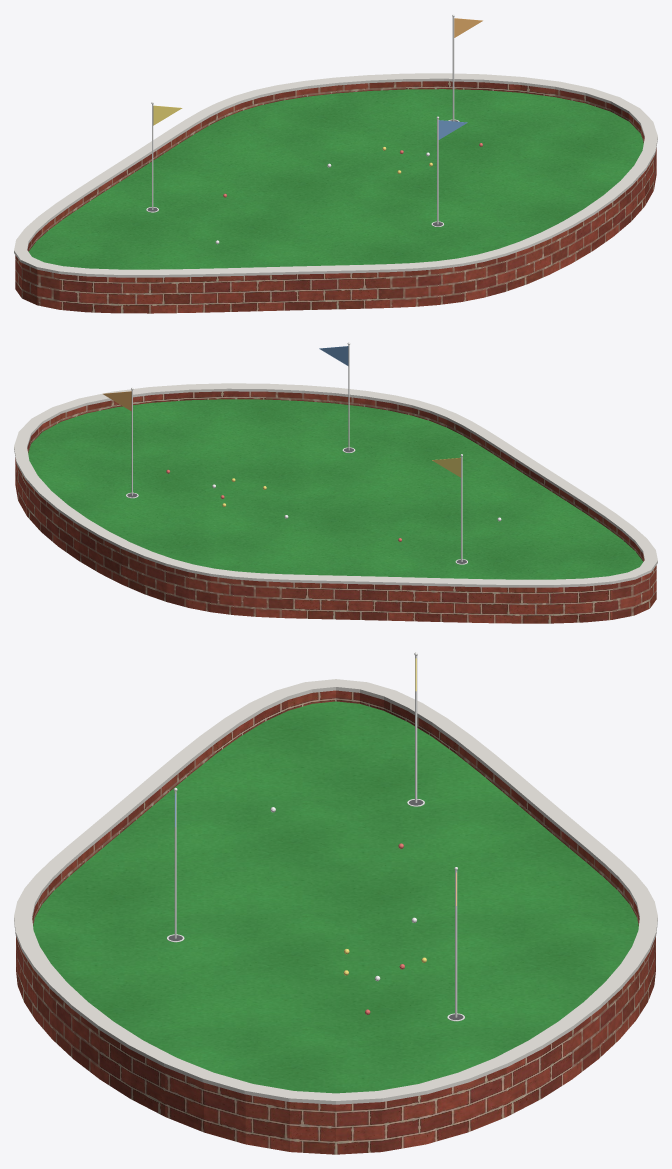
The model's file is practice.glb.
The picture shows the model from 3 angles, top to bottom: view 1: azimuth 30°, elevation 25°; view 2: azimuth 150°, elevation 25°; view 3: azimuth 270°, elevation 25°; orthographic projection. The views are drawn at different scales.
Visible parts, largest first — view 1: practice_turf, practice_brick, practice_coping, practice_paint_w; view 2: practice_turf, practice_brick, practice_coping, practice_paint_w; view 3: practice_turf, practice_brick, practice_coping, practice_paint_w.
Boxes of the visible parts, left/top/right/bottom form: practice_turf: left=28, top=89, right=643, bottom=269; practice_brick: left=15, top=81, right=656, bottom=313; practice_coping: left=14, top=73, right=657, bottom=277; practice_paint_w: left=146, top=14, right=459, bottom=226; practice_turf: left=28, top=399, right=642, bottom=579; practice_brick: left=15, top=391, right=656, bottom=623; practice_coping: left=14, top=383, right=657, bottom=587; practice_paint_w: left=126, top=342, right=467, bottom=564; practice_turf: left=33, top=701, right=638, bottom=1093; practice_brick: left=16, top=690, right=655, bottom=1154; practice_coping: left=14, top=679, right=657, bottom=1104; practice_paint_w: left=167, top=652, right=464, bottom=1021.
Bounding box in the file's own units: 7.47 × 1.57 × 4.82.
Materials: 11 (3 with a texture image).
